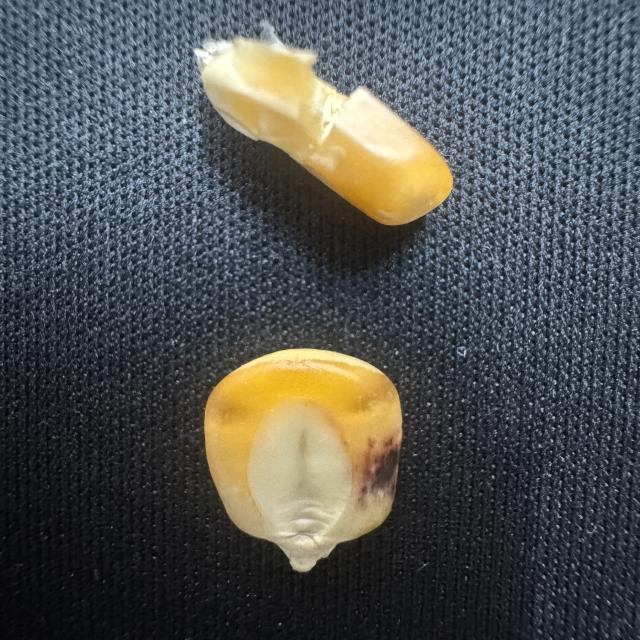Bad-Seed: (170, 12, 487, 264), (180, 338, 424, 582)
